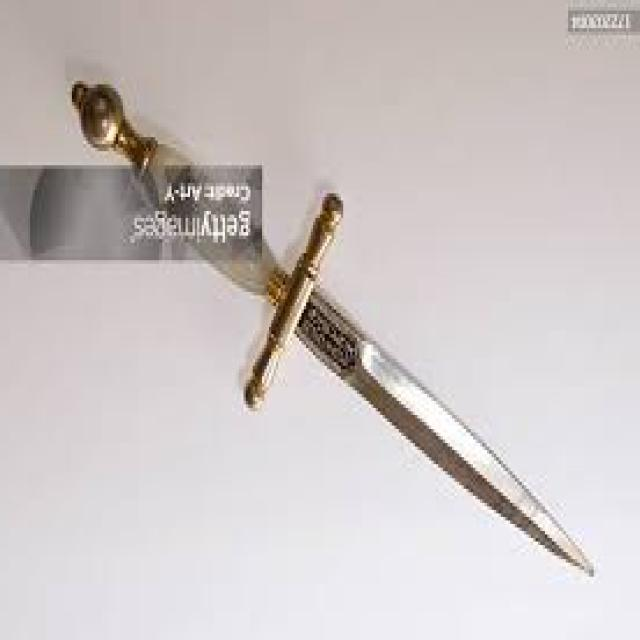Gun: (60, 56, 600, 590)
